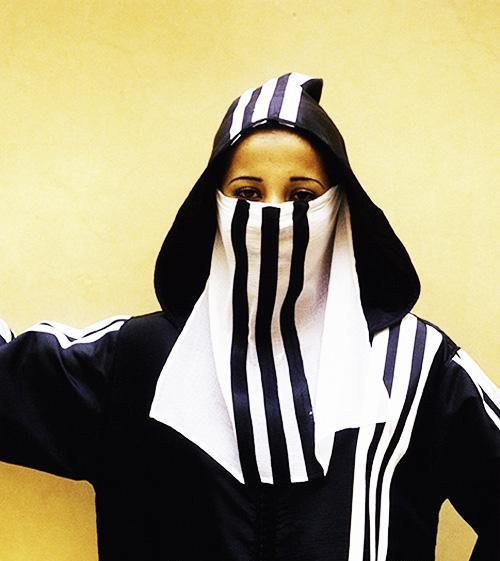OK: (220, 156, 344, 280)
